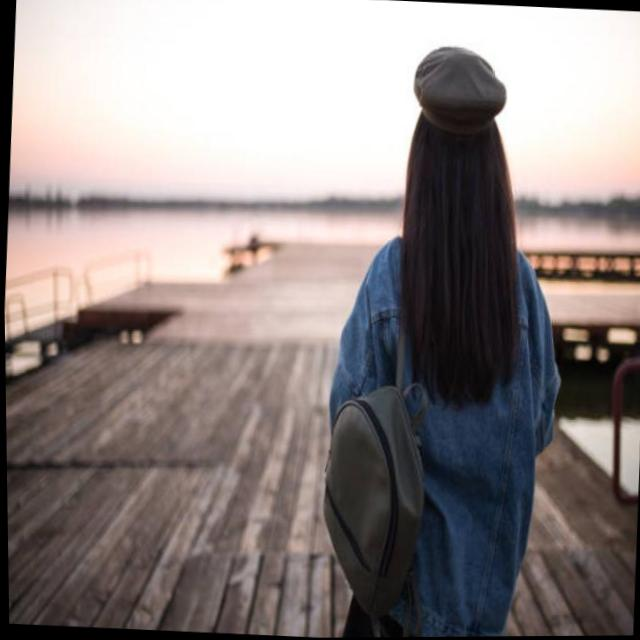no helmet: (397, 26, 520, 257)
